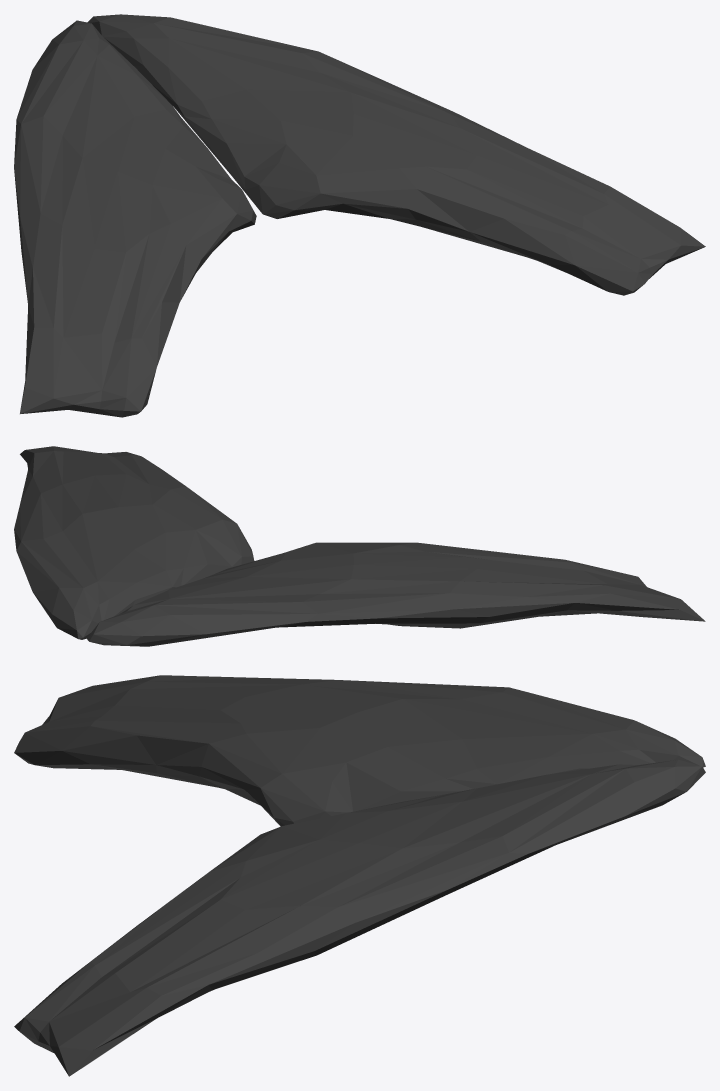
The model's file is m_cervicoscutularis.glb.
The picture shows the model from 3 angles, top to bottom: view 1: azimuth 30°, elevation 25°; view 2: azimuth 150°, elevation 25°; view 3: azimuth 270°, elevation 25°; orthographic projection. The views are drawn at different scales.
Parts seen in each view (by area): view 1: m_cervicoscutularis; view 2: m_cervicoscutularis; view 3: m_cervicoscutularis.
Boxes of the visible parts, x1,y1,x2,y2 form: m_cervicoscutularis: (14, 14, 705, 417); m_cervicoscutularis: (14, 446, 705, 646); m_cervicoscutularis: (14, 675, 705, 1076).
Size of the model in its own units: 0.00103 by 0.000193 by 0.00079.
1 material, 1 textured.
